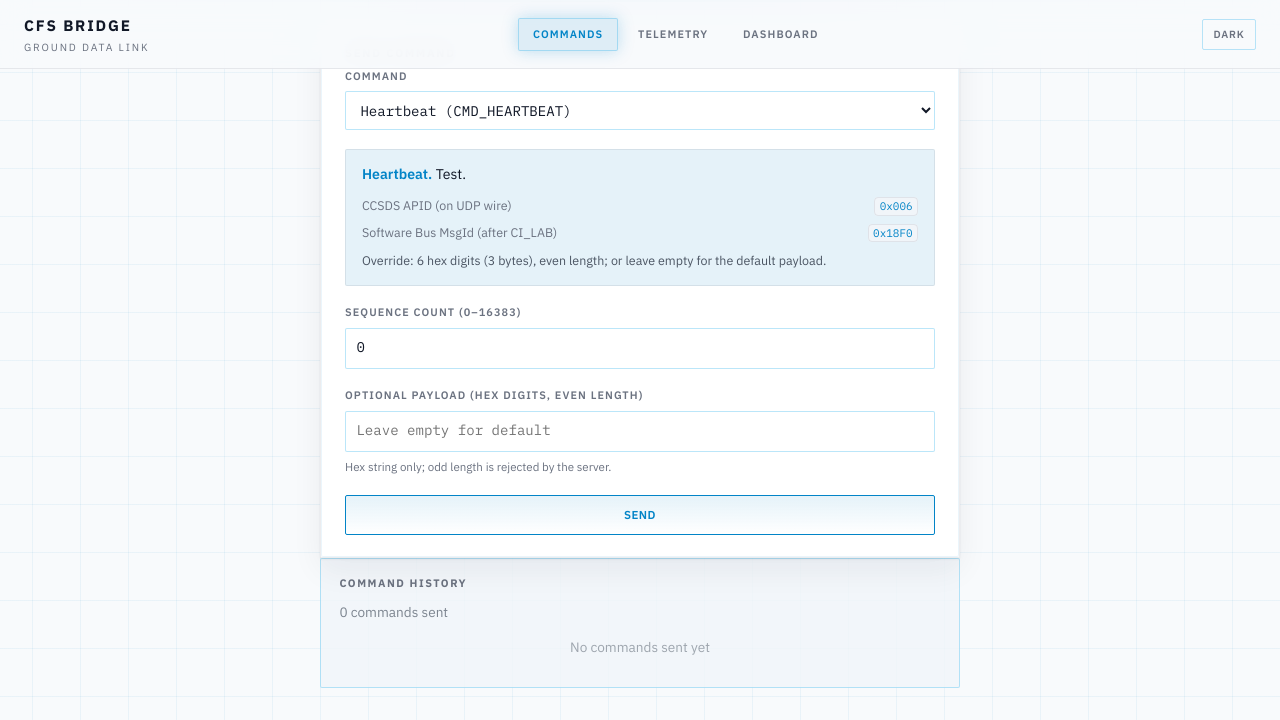
Test case: App › sends command when Send is clicked
(page scrolled)
Click the button "Send" at (640, 515), box [345,495,935,535]
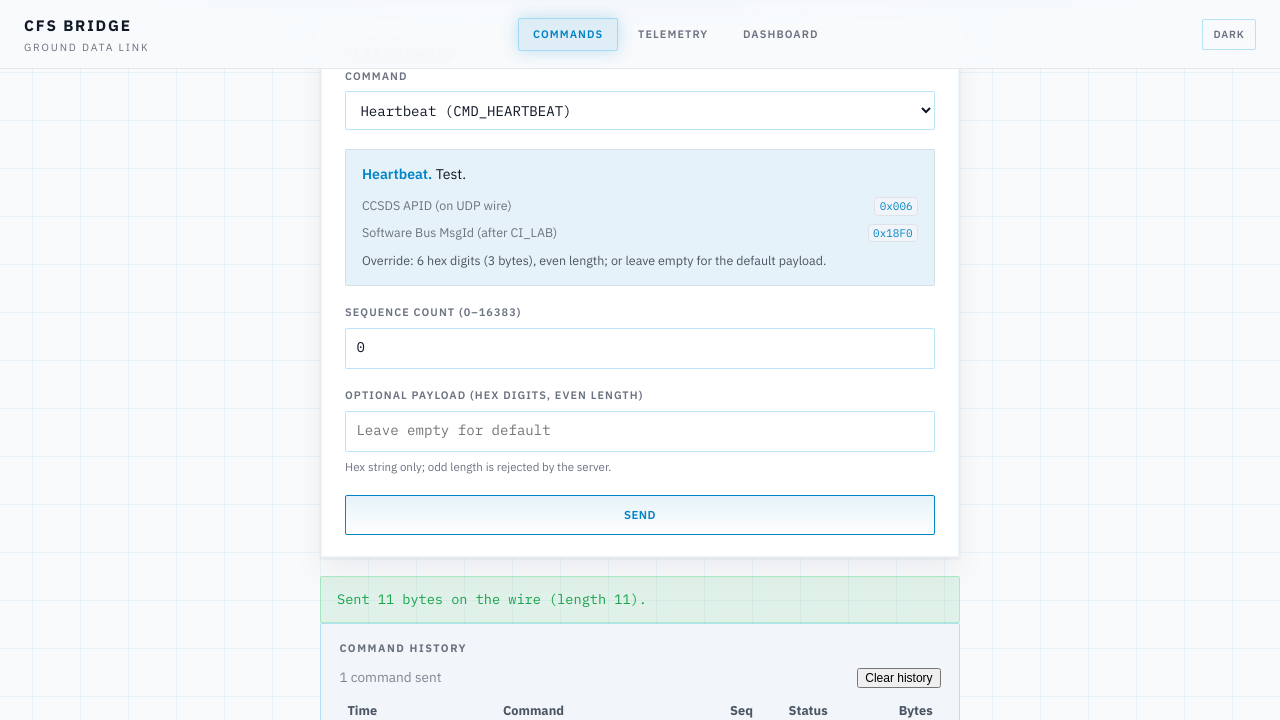
Expected: the text "Sent 11 bytes on the wire (length 11)." is shown, [320,576,960,623]
